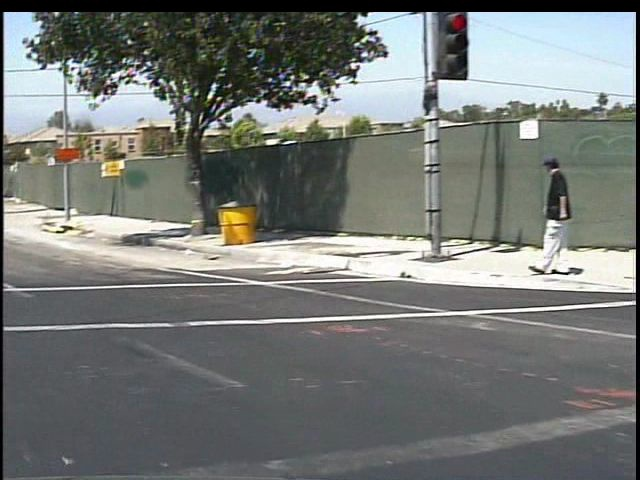person: (519, 148, 572, 287)
